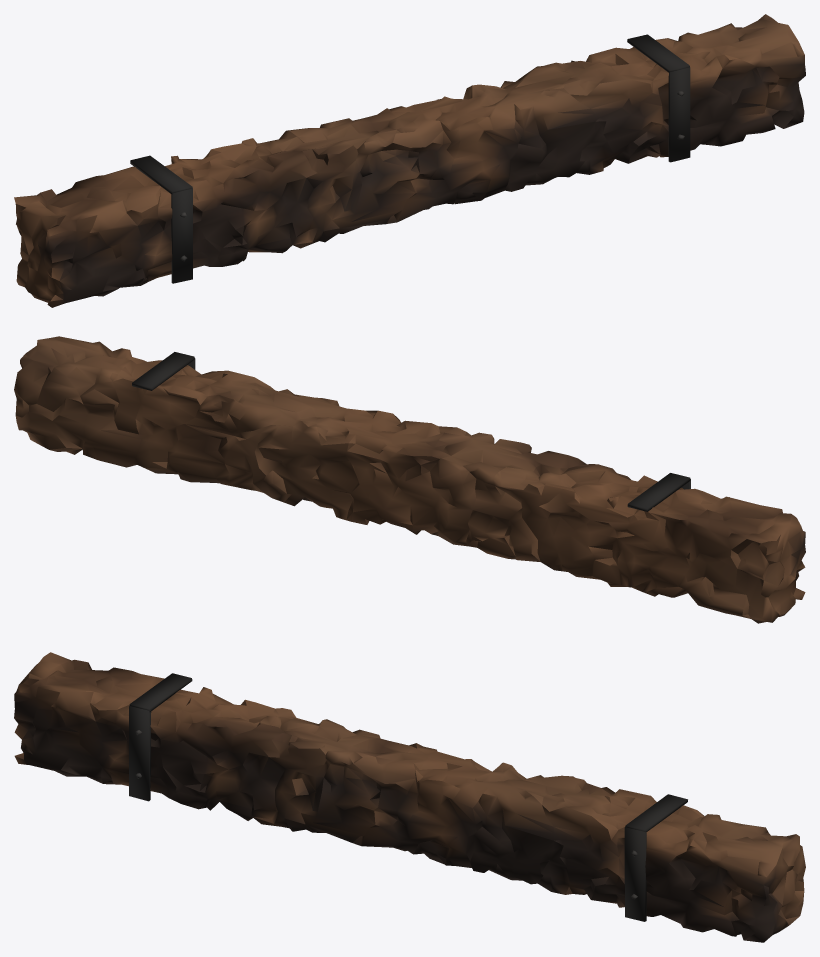
File: ember_lintel_beam_lod1.glb
3 renders of one model, top to bottom at view 1: azimuth 30°, elevation 25°; view 2: azimuth 150°, elevation 25°; view 3: azimuth 330°, elevation 25°, orthographic.
Parts seen in each view (by area): view 1: ember_lintel_beam.001; view 2: ember_lintel_beam.001; view 3: ember_lintel_beam.001.
Boxes of the visible parts, bbox=[...] form: ember_lintel_beam.001: bbox=[14, 14, 805, 307]; ember_lintel_beam.001: bbox=[14, 336, 805, 623]; ember_lintel_beam.001: bbox=[14, 652, 805, 942].
Size of the model in its own units: 110 by 13.02 by 11.47.
